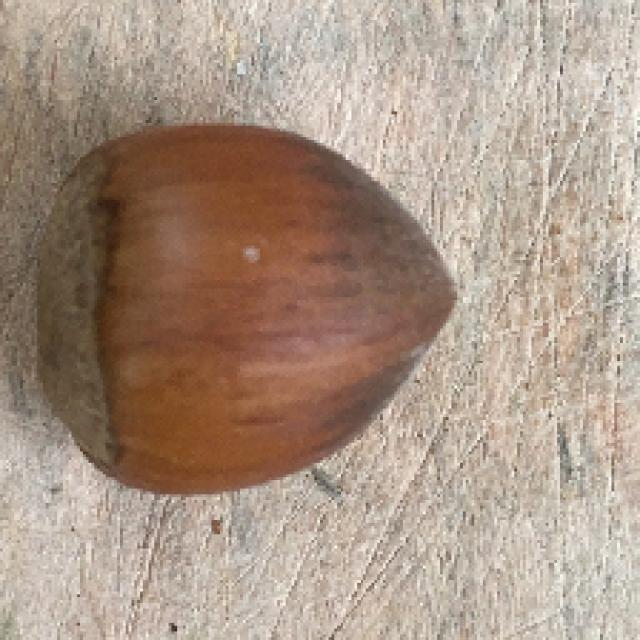qualityHazelnut: (33, 115, 465, 494)
